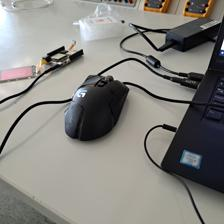mouse: (61, 73, 129, 141)
